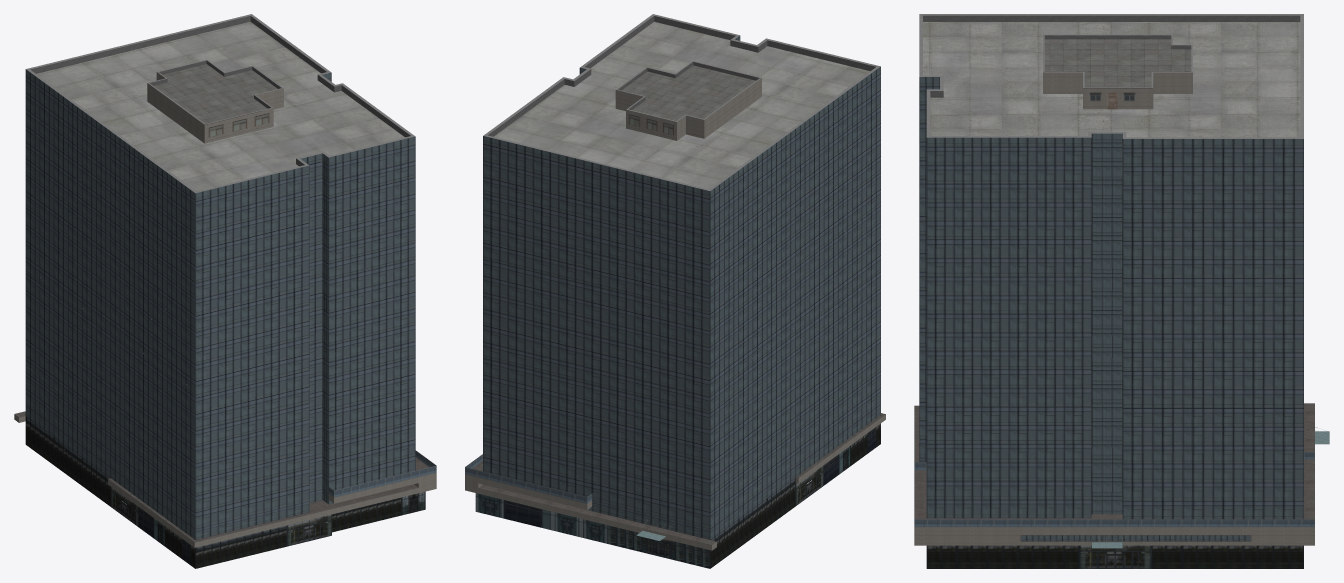
The picture shows the model from 3 angles, left to right: view 1: azimuth 30°, elevation 25°; view 2: azimuth 150°, elevation 25°; view 3: azimuth 270°, elevation 25°; orthographic projection. The views are drawn at different scales.
Parts seen in each view (by area): view 1: E001-B001-Ding, E001-B001-F002, E001-B001-F001, E001-B001-F018, E001-B001-F010, E001-B001-F014, E001-B001-F013, E001-B001-F011, E001-B001-F009, E001-B001-F015, E001-B001-F017, E001-B001-F012 (+7 smaller); view 2: E001-B001-Ding, E001-B001-F002, E001-B001-F001, E001-B001-F018, E001-B001-F008, E001-B001-F006, E001-B001-F013, E001-B001-F015, E001-B001-F004, E001-B001-F012, E001-B001-F014, E001-B001-F017 (+7 smaller); view 3: E001-B001-Ding, E001-B001-F002, E001-B001-F006, E001-B001-F011, E001-B001-F016, E001-B001-F018, E001-B001-F005, E001-B001-F010, E001-B001-F015, E001-B001-F001, E001-B001-F004, E001-B001-F009 (+7 smaller).
Part boxes in pixels (x1,y1,x2,y2): E001-B001-Ding: (26, 14, 414, 193); E001-B001-F002: (14, 385, 436, 547); E001-B001-F001: (25, 421, 425, 568); E001-B001-F018: (25, 69, 415, 212); E001-B001-F010: (25, 227, 415, 370); E001-B001-F014: (25, 148, 415, 291); E001-B001-F013: (25, 168, 415, 311); E001-B001-F011: (25, 207, 415, 351); E001-B001-F009: (25, 247, 415, 390); E001-B001-F015: (25, 128, 415, 272); E001-B001-F017: (25, 89, 415, 232); E001-B001-F012: (25, 188, 415, 331); E001-B001-Ding: (483, 14, 880, 190); E001-B001-F002: (465, 384, 885, 550); E001-B001-F001: (475, 423, 880, 568); E001-B001-F018: (483, 36, 880, 210); E001-B001-F008: (483, 265, 880, 409); E001-B001-F006: (483, 305, 880, 449); E001-B001-F013: (483, 166, 880, 310); E001-B001-F015: (483, 126, 880, 270); E001-B001-F004: (483, 345, 880, 489); E001-B001-F012: (483, 186, 880, 330); E001-B001-F014: (483, 146, 880, 290); E001-B001-F017: (483, 86, 880, 230); E001-B001-Ding: (919, 14, 1303, 138); E001-B001-F002: (914, 403, 1329, 548); E001-B001-F006: (919, 346, 1303, 430); E001-B001-F011: (919, 234, 1303, 318); E001-B001-F016: (919, 122, 1303, 206); E001-B001-F018: (919, 77, 1303, 161); E001-B001-F005: (919, 368, 1303, 452); E001-B001-F010: (919, 256, 1303, 340); E001-B001-F015: (919, 144, 1303, 228); E001-B001-F001: (926, 545, 1303, 568); E001-B001-F004: (919, 390, 1303, 474); E001-B001-F009: (919, 278, 1303, 362).
Bounding box in the file's own units: 4.61 × 6.66 × 5.69.
Materials: 4 (4 with a texture image).
